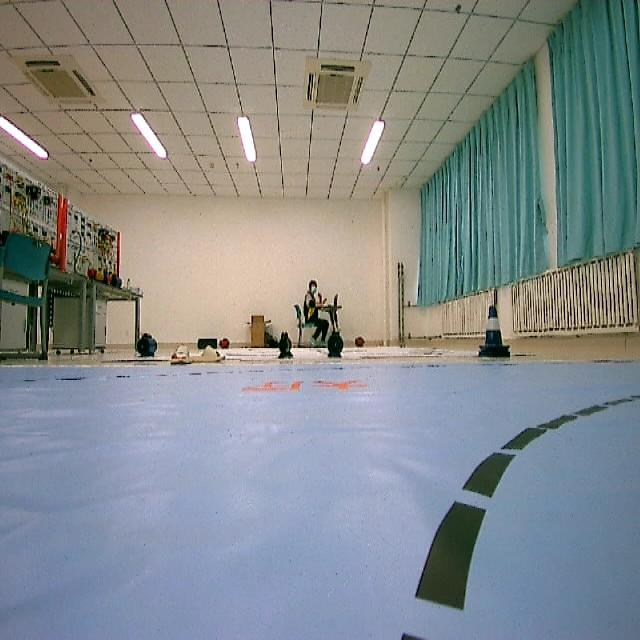obstacle: (470, 298, 515, 366)
